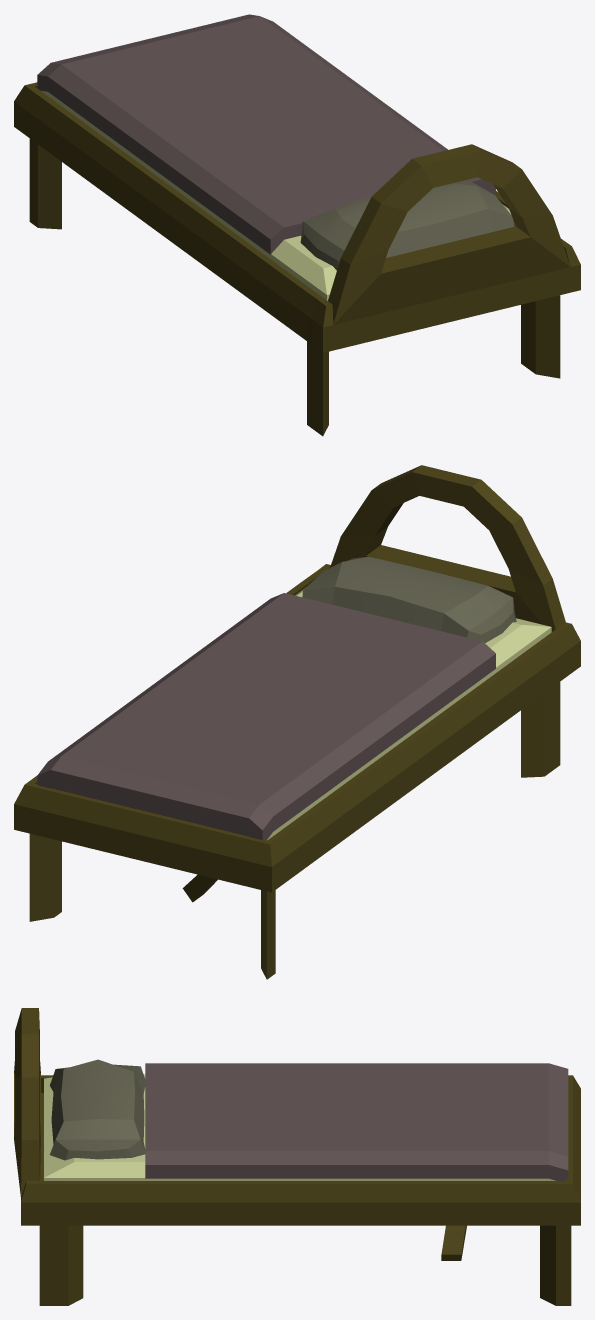
The model's file is Säng.fbx.
The picture shows the model from 3 angles, top to bottom: view 1: azimuth 30°, elevation 25°; view 2: azimuth 150°, elevation 25°; view 3: azimuth 270°, elevation 25°; orthographic projection. The views are drawn at different scales.
Visible parts, largest first — view 1: Säng_ram, Täcke, Kudde, Madrass; view 2: Täcke, Säng_ram, Kudde, Madrass; view 3: Täcke, Säng_ram, Kudde, Madrass.
Boxes of the visible parts, bbox=[...] form: Säng_ram: bbox=[14, 82, 580, 436]; Täcke: bbox=[37, 14, 495, 254]; Kudde: bbox=[300, 180, 515, 270]; Madrass: bbox=[41, 90, 511, 300]; Täcke: bbox=[37, 593, 495, 840]; Säng_ram: bbox=[14, 465, 580, 979]; Kudde: bbox=[302, 556, 516, 643]; Madrass: bbox=[267, 587, 551, 840]; Täcke: bbox=[145, 1063, 568, 1180]; Säng_ram: bbox=[14, 1008, 580, 1305]; Kudde: bbox=[50, 1059, 145, 1160]; Madrass: bbox=[44, 1074, 555, 1180].
Size of the model in its own units: 3.92 by 3.72 by 8.23.
